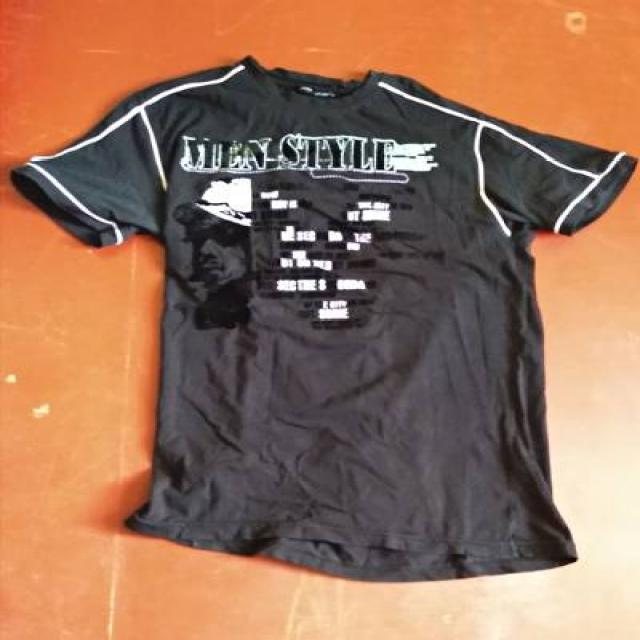Clothes -Biodegradable-: (12, 55, 639, 584)
